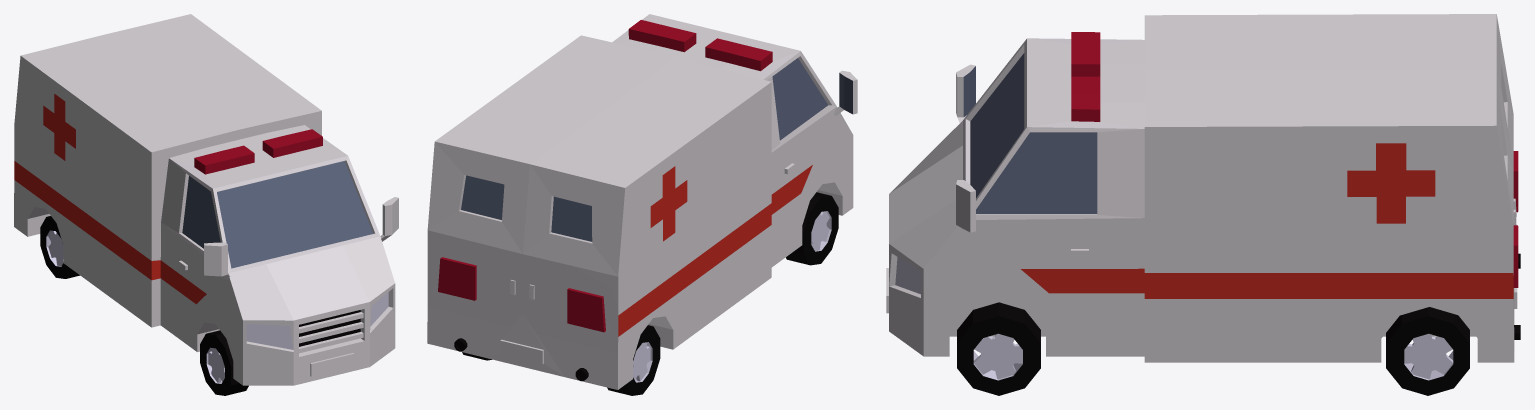
The model's file is mod-ambulancia.gltf.
3 renders of one model, left to right at view 1: azimuth 30°, elevation 25°; view 2: azimuth 150°, elevation 25°; view 3: azimuth 270°, elevation 25°, orthographic. The views are drawn at different scales.
Parts seen in each view (by area): view 1: Ambulance, Ambulance wheel front left; view 2: Ambulance, Ambulance wheel front left; view 3: Ambulance, Ambulance wheel front left.
Part boxes in pixels (x1=…): Ambulance: x1=14, y1=14, x2=398, y2=385; Ambulance wheel front left: x1=40, y1=216, x2=248, y2=395; Ambulance: x1=427, y1=14, x2=857, y2=389; Ambulance wheel front left: x1=462, y1=192, x2=838, y2=395; Ambulance: x1=886, y1=14, x2=1520, y2=362; Ambulance wheel front left: x1=957, y1=302, x2=1469, y2=395.
Size of the model in its own units: 2.48 by 2.51 by 5.2.
